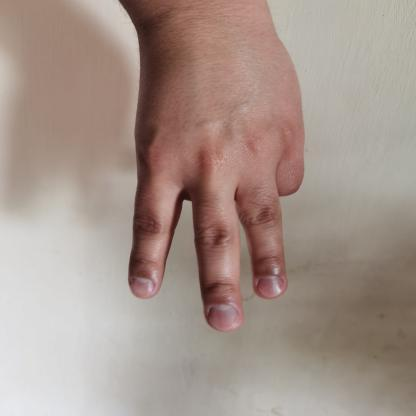M: (100, 0, 324, 334)
